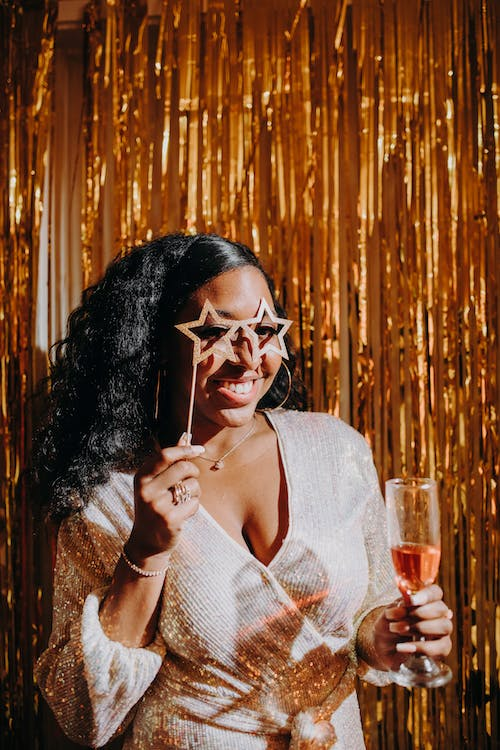alcohol: (382, 474, 454, 690)
